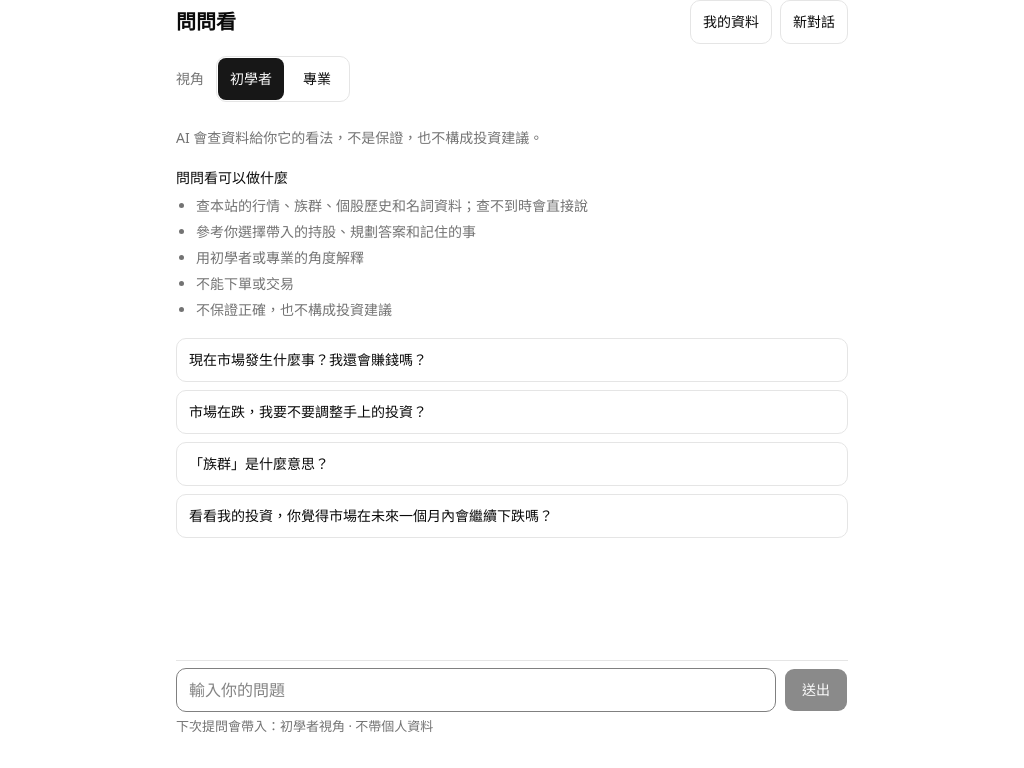
Test case: AskChat: first-use disclosure › sends nothing and keeps the draft when closed without agreeing
Type "不要送" into the text box named "提問".
click(476, 690); type("不要送")  # box 176,668 -> 776,712
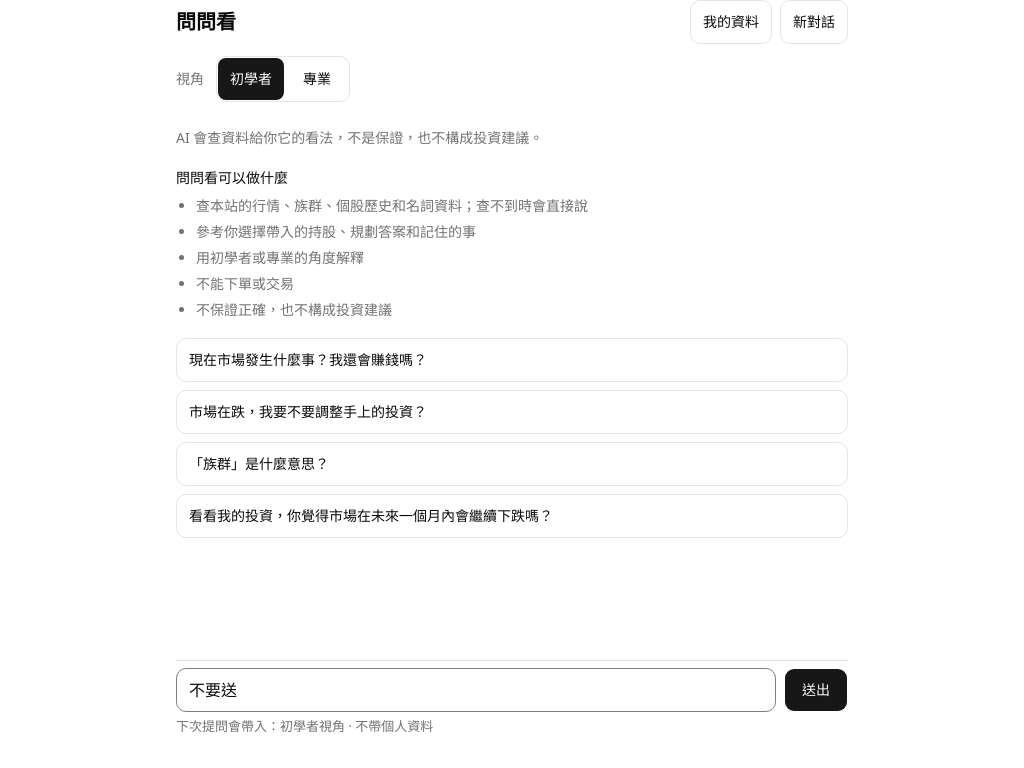
Click the button "送出".
click(816, 690)  # box 784,668 -> 848,712
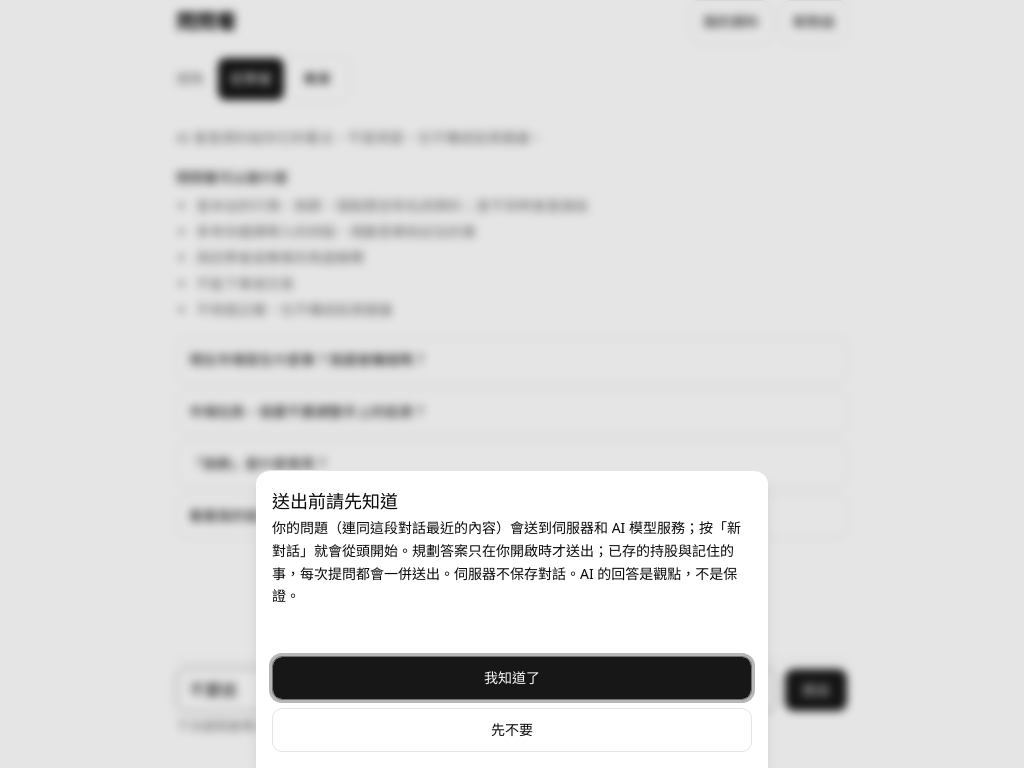
Click the button "先不要".
click(512, 730)  # box 272,708 -> 752,752
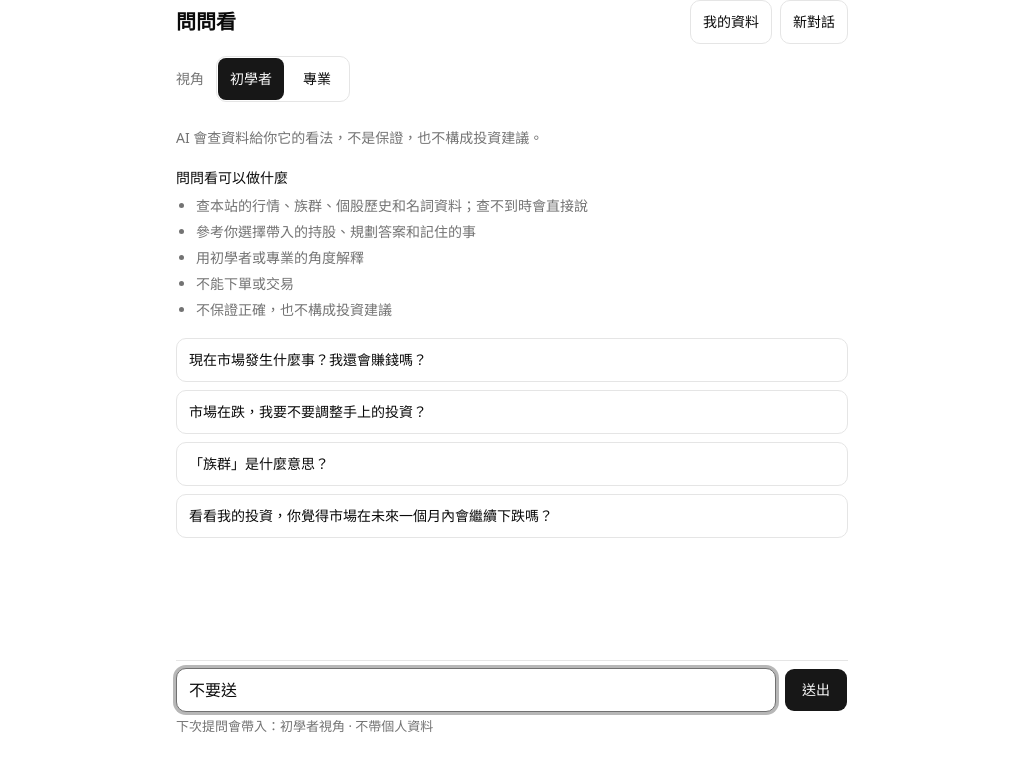
Result: the dialog is gone
Click the button "送出".
click(816, 690)  # box 784,668 -> 848,712
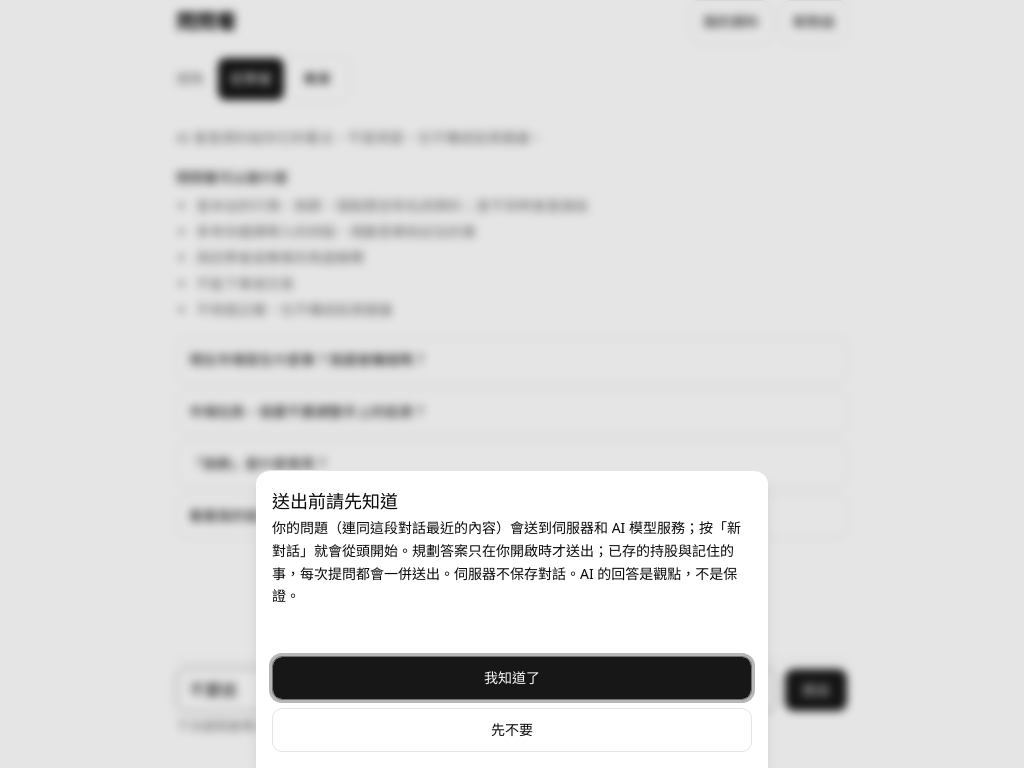
Result: the dialog is shown at 256,470 -> 768,767
